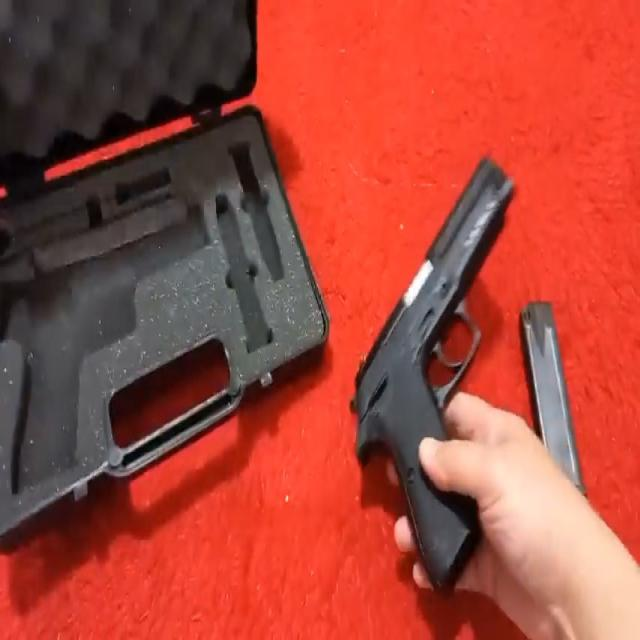handgun: (352, 148, 515, 599)
